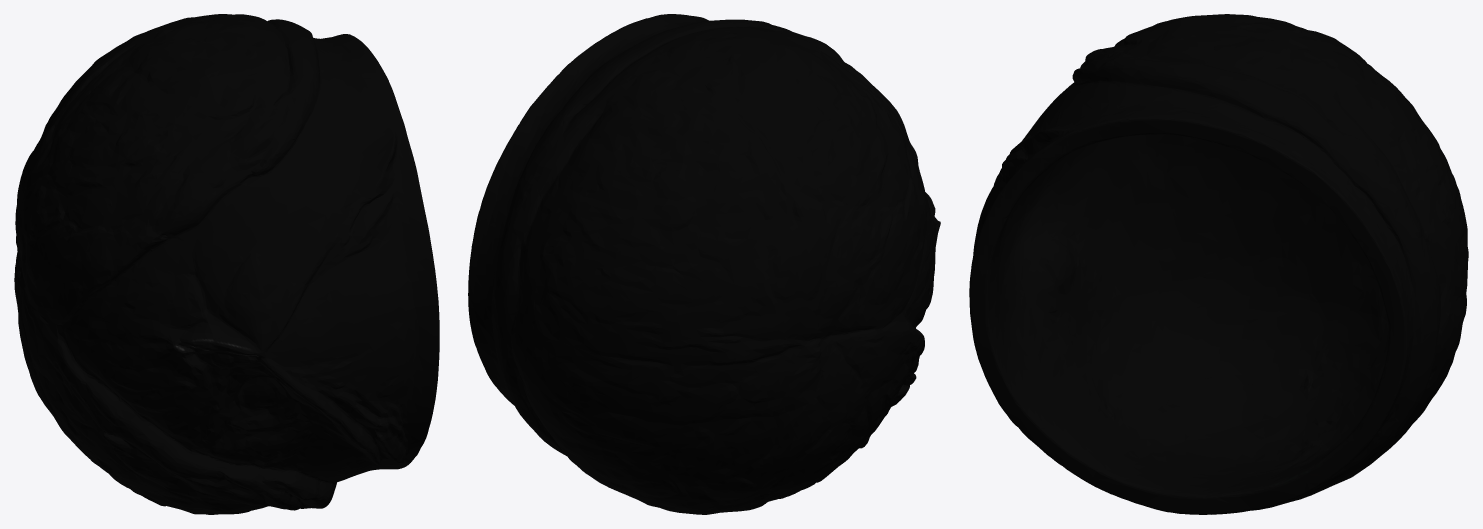
File: black-owl-bowl.glb
3 views of the same model, side by side, from view 1: azimuth 30°, elevation 25°; view 2: azimuth 150°, elevation 25°; view 3: azimuth 270°, elevation 25° (orthographic). The views are drawn at different scales.
Parts seen in each view (by area): view 1: black owl bowl_textured.obj; view 2: black owl bowl_textured.obj; view 3: black owl bowl_textured.obj.
Part boxes in pixels (x1,y1,x2,y2): black owl bowl_textured.obj: (14,14,439,514); black owl bowl_textured.obj: (468,14,940,514); black owl bowl_textured.obj: (969,14,1468,514).
Size of the model in its own units: 1.6 by 1.99 by 1.96.
1 material, 1 textured.
